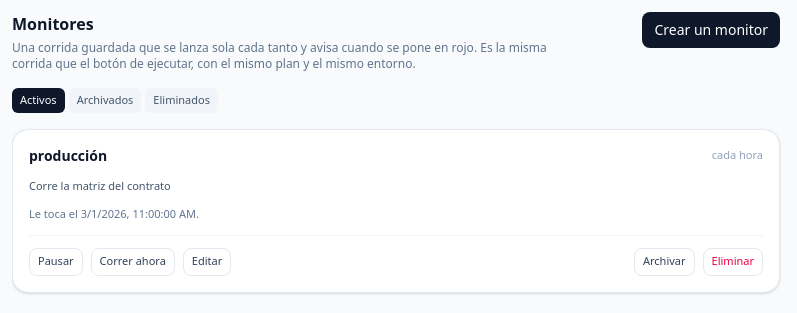
Scenario: los tres filtros de los monitores › cada uno pide su lista, y fuera de la viva no se pausa, ni se corre, ni se edita
Check: the text "producción" is shown, box [29, 146, 107, 166]
Check: the button "Correr ahora" is shown, box [91, 248, 175, 276]
Click the tab "Archivados".
click(105, 100)  # box [69, 88, 141, 112]
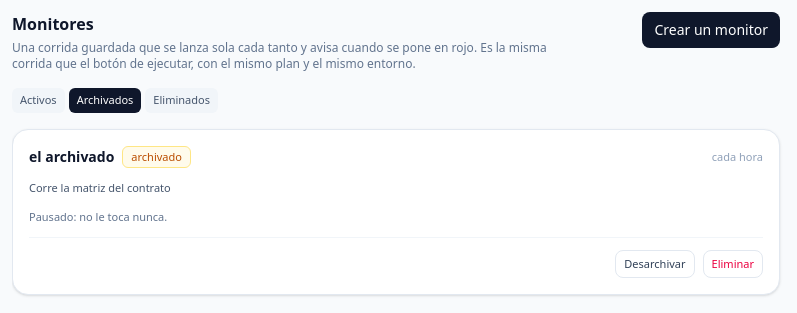
Check: the text "el archivado" is shown, box [29, 147, 114, 167]
Check: the text "archivado" is shown, box [122, 146, 191, 168]
Check: the button "Correr ahora" is gone
Click the tab "Eliminados".
click(182, 100)  # box [145, 88, 218, 112]
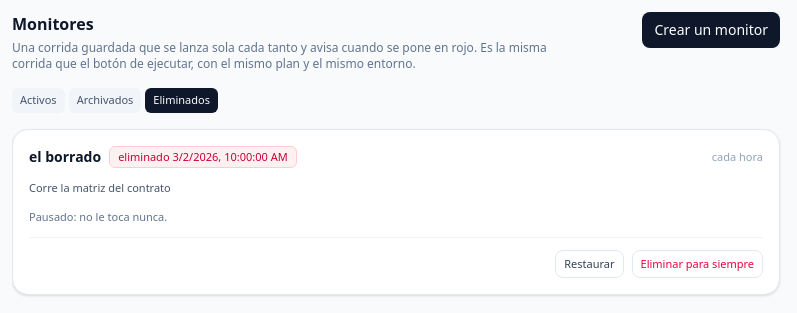
Check: the text "el borrado" is shown, box [29, 147, 101, 167]
Check: the text "eliminado 3/2/2026, 10:00:00 AM" is shown, box [109, 146, 297, 168]
